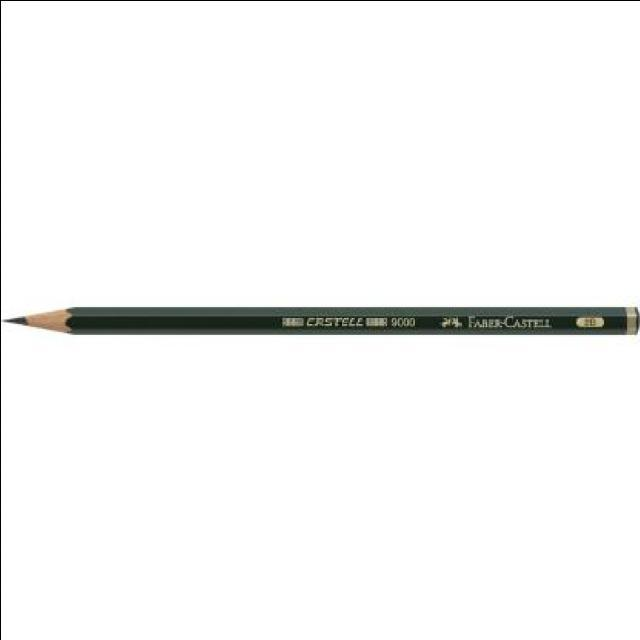pencil: (0, 294, 88, 348)
